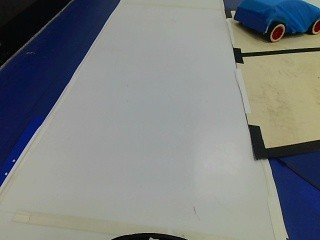car: (226, 0, 318, 46)
